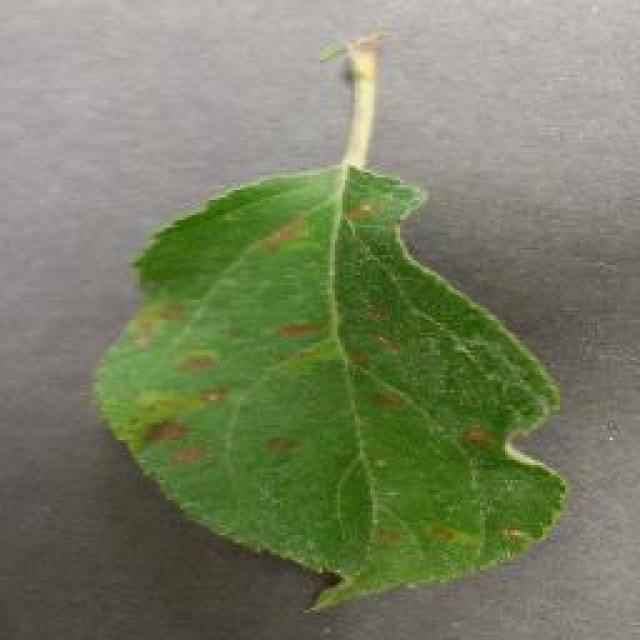apple scab disease: (90, 30, 568, 612)
